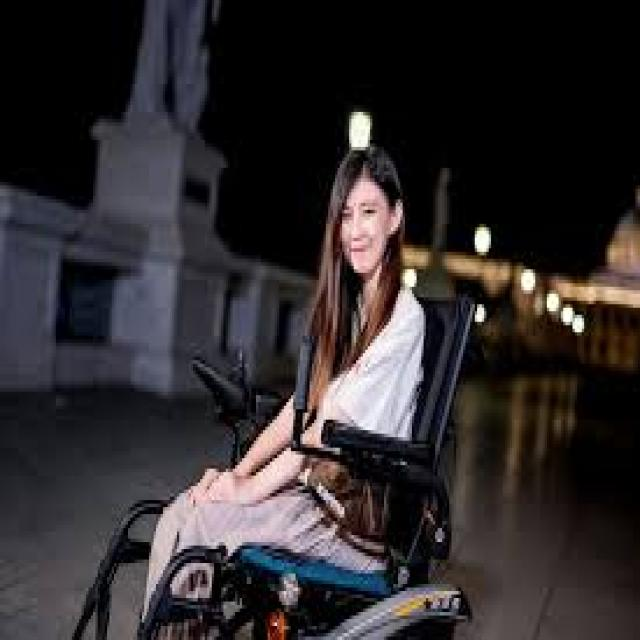wheelchairs: (88, 276, 480, 636)
